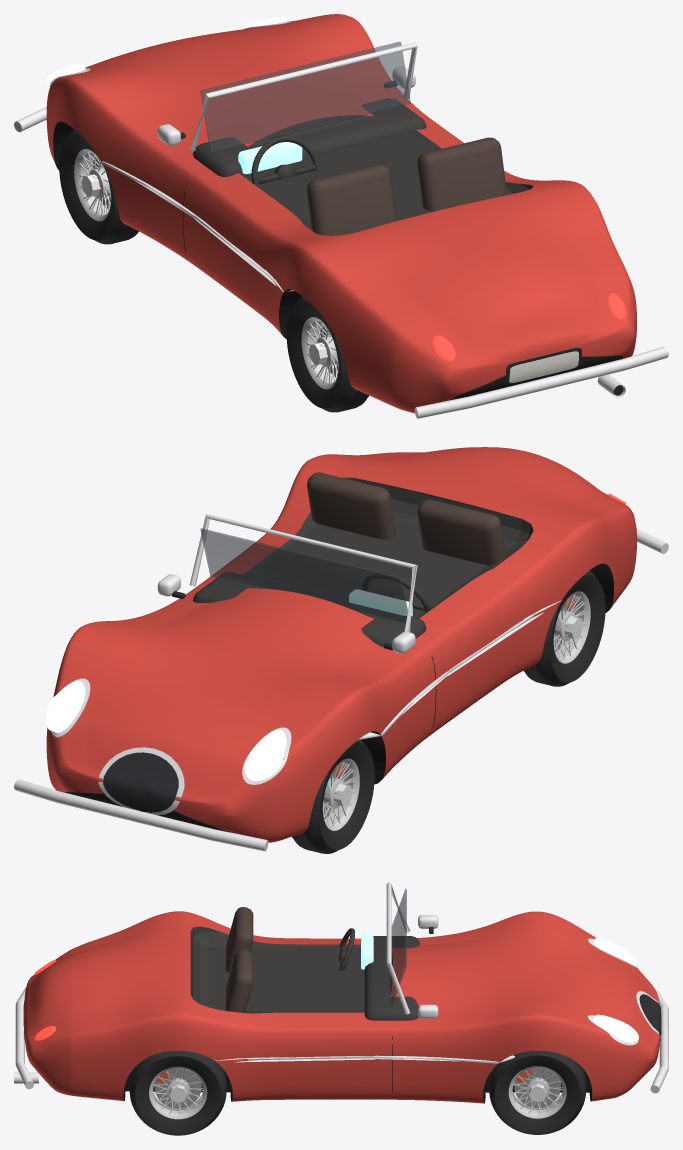
File: AureliaRoadster.glb
3 renders of one model, top to bottom at view 1: azimuth 30°, elevation 25°; view 2: azimuth 150°, elevation 25°; view 3: azimuth 270°, elevation 25°, orthographic. The views are drawn at different scales.
Parts seen in each view (by area): view 1: AureliaRoadster_Body, AureliaRoadster_Interior, AureliaRoadster_Wheel_RL, AureliaRoadster_Wheel_FL, AureliaRoadster_Steering, AureliaRoadster_Lights_Tail; view 2: AureliaRoadster_Body, AureliaRoadster_Interior, AureliaRoadster_Wheel_FL, AureliaRoadster_Wheel_RL, AureliaRoadster_Lights_Head, AureliaRoadster_Steering; view 3: AureliaRoadster_Body, AureliaRoadster_Wheel_RR, AureliaRoadster_Wheel_FR, AureliaRoadster_Interior, AureliaRoadster_Lights_Head, AureliaRoadster_Steering.
Part boxes in pixels (x1=…): AureliaRoadster_Body: x1=14, y1=14, x2=668, y2=418; AureliaRoadster_Interior: x1=192, y1=98, x2=506, y2=335; AureliaRoadster_Wheel_RL: x1=286, y1=296, x2=369, y2=412; AureliaRoadster_Wheel_FL: x1=59, y1=129, x2=138, y2=244; AureliaRoadster_Steering: x1=251, y1=135, x2=320, y2=184; AureliaRoadster_Lights_Tail: x1=432, y1=292, x2=626, y2=361; AureliaRoadster_Body: x1=14, y1=447, x2=668, y2=851; AureliaRoadster_Interior: x1=192, y1=472, x2=607, y2=650; AureliaRoadster_Wheel_FL: x1=292, y1=739, x2=374, y2=853; AureliaRoadster_Wheel_RL: x1=524, y1=570, x2=605, y2=686; AureliaRoadster_Lights_Head: x1=46, y1=680, x2=286, y2=781; AureliaRoadster_Steering: x1=362, y1=572, x2=430, y2=611; AureliaRoadster_Body: x1=14, y1=882, x2=668, y2=1103; AureliaRoadster_Wheel_RR: x1=129, y1=1051, x2=226, y2=1135; AureliaRoadster_Wheel_FR: x1=489, y1=1050, x2=586, y2=1134; AureliaRoadster_Interior: x1=123, y1=907, x2=485, y2=1098; AureliaRoadster_Lights_Head: x1=593, y1=938, x2=638, y2=1042; AureliaRoadster_Steering: x1=339, y1=928, x2=354, y2=971.
Size of the model in its own units: 1.69 by 1.17 by 4.19.
